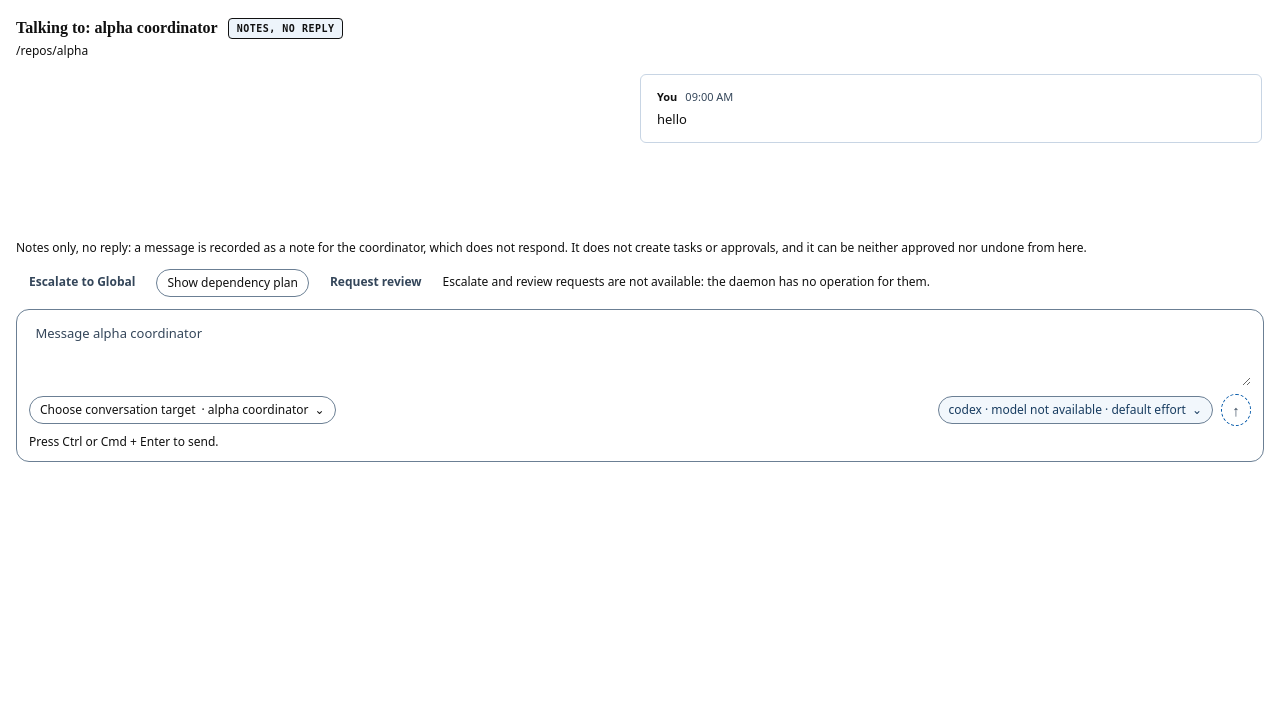
it: workspace view, live (daemon-derived) mode › polls a running turn, blocks a second send, and cancels through the daemon
The width and height of the screenshot is (1280, 720).
Expected: the heading "Talking to: alpha coordinator" is shown, [16,18,218,39]
Click the button "Choose conversation target · alpha coordinator ⌄".
click(182, 410)  # box [29,396,336,424]
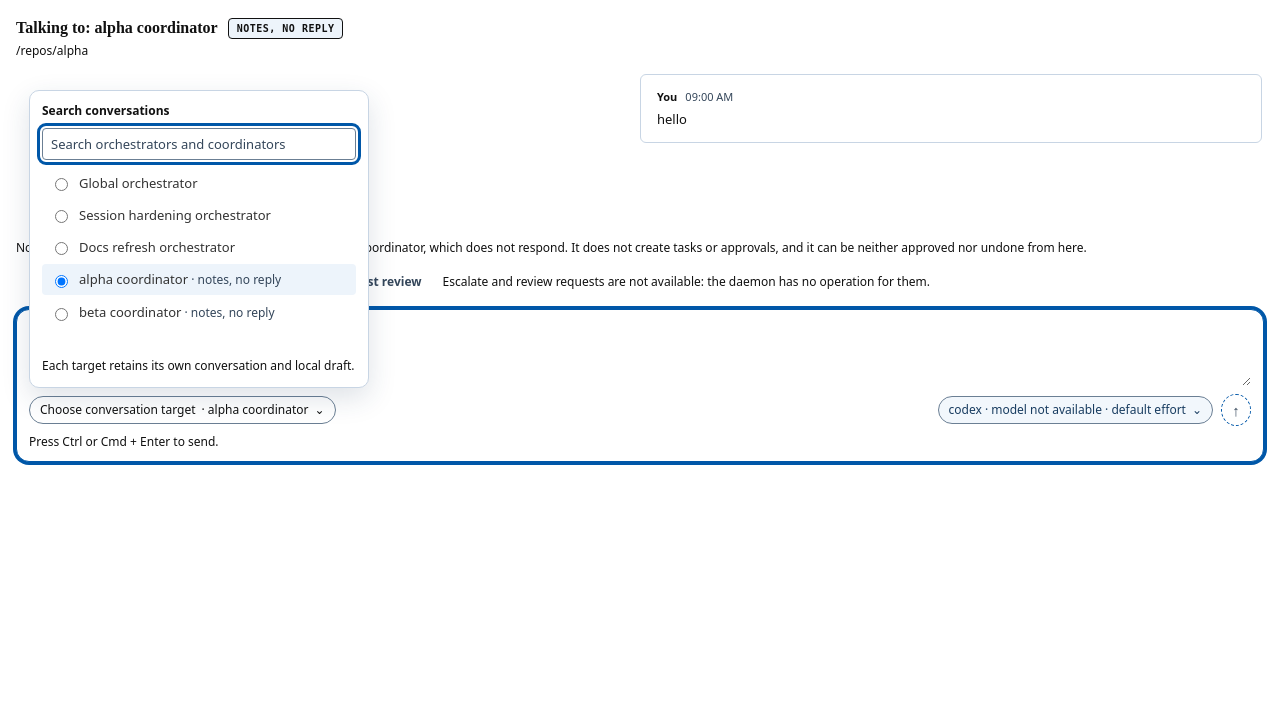
Click the radio button labelled "Global orchestrator".
click(62, 184)  # box [55,178,68,191]
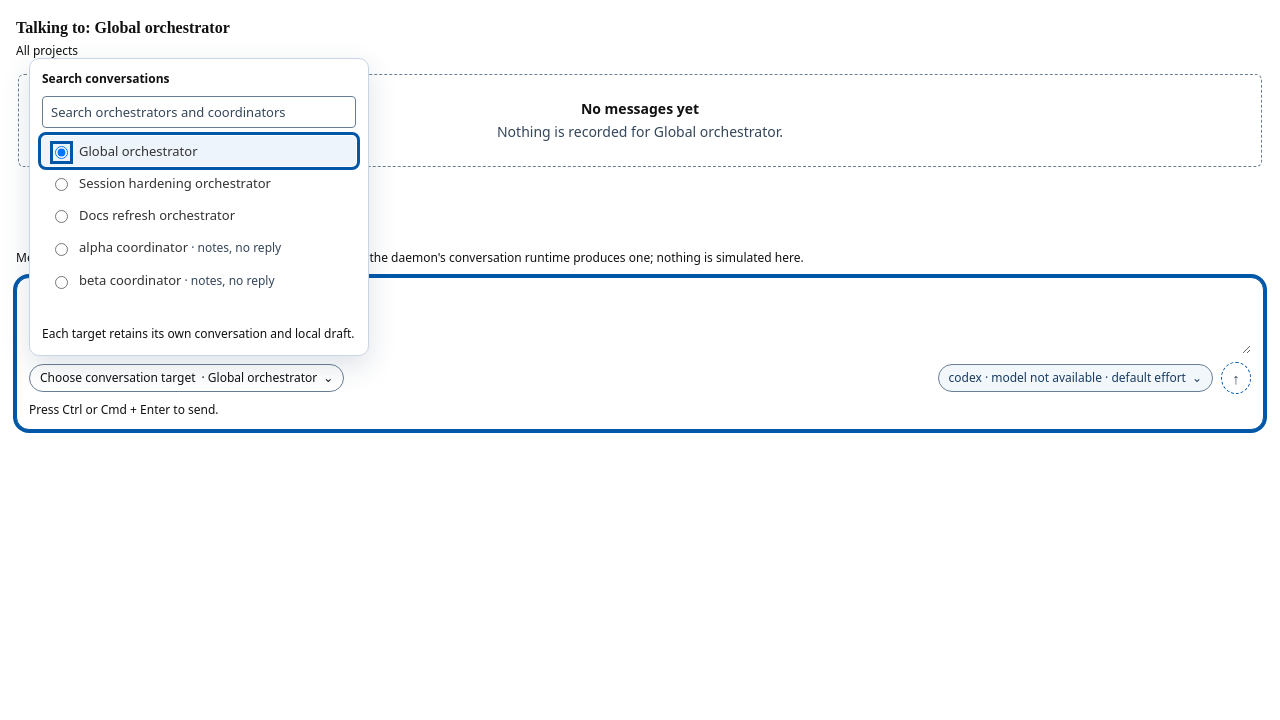
Type "slow" into the text box labelled "Message Global orchestrator".
click(640, 321); type("slow")  # box [29,288,1251,354]
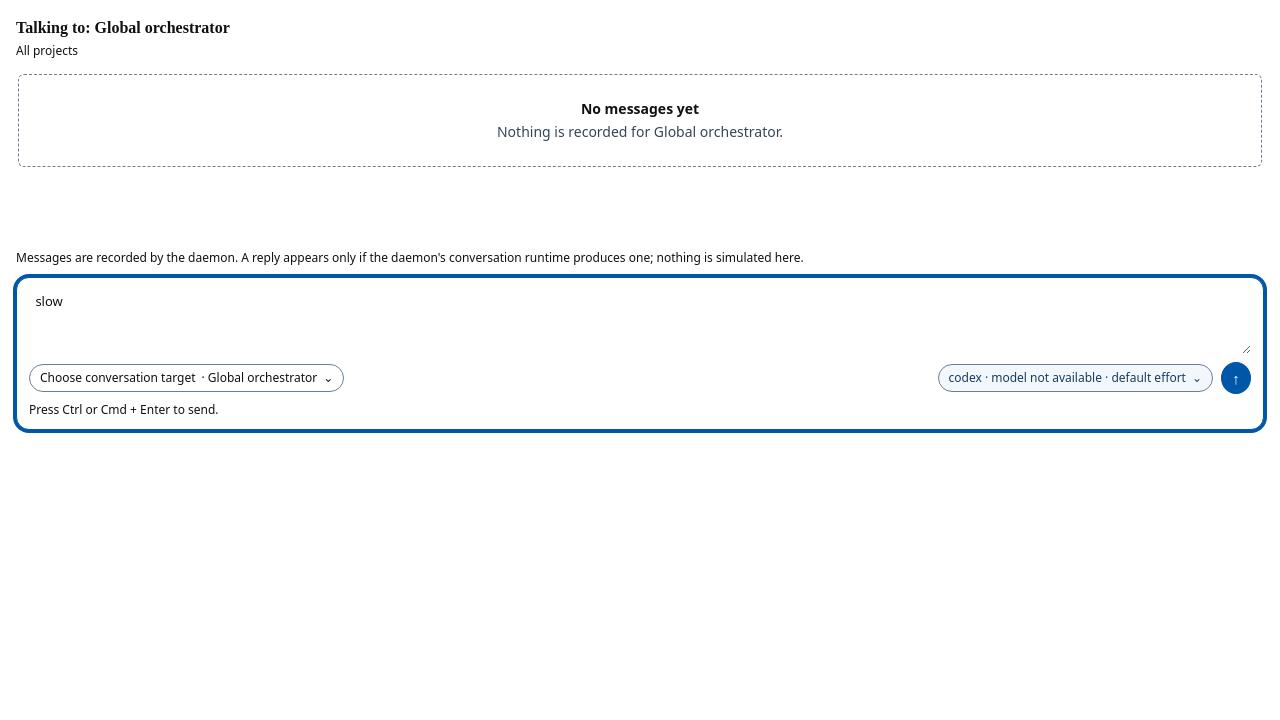
Click the button named "Send message to Global orchestrator".
click(1236, 378)  # box [1221,362,1251,394]
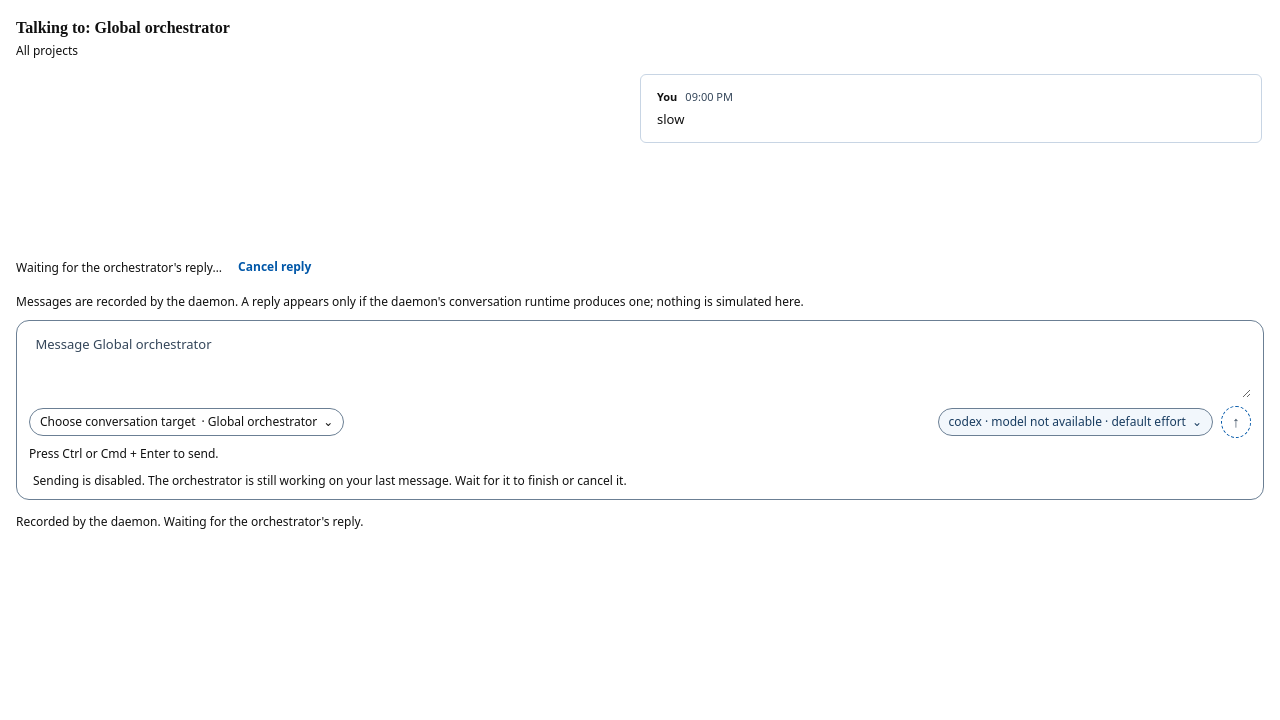
Result: the text "Waiting for the orchestrator's reply… Cancel reply" is shown at [16,252,324,284]
Type "more" into the text box labelled "Message Global orchestrator".
click(640, 365); type("more")  # box [29,331,1251,398]
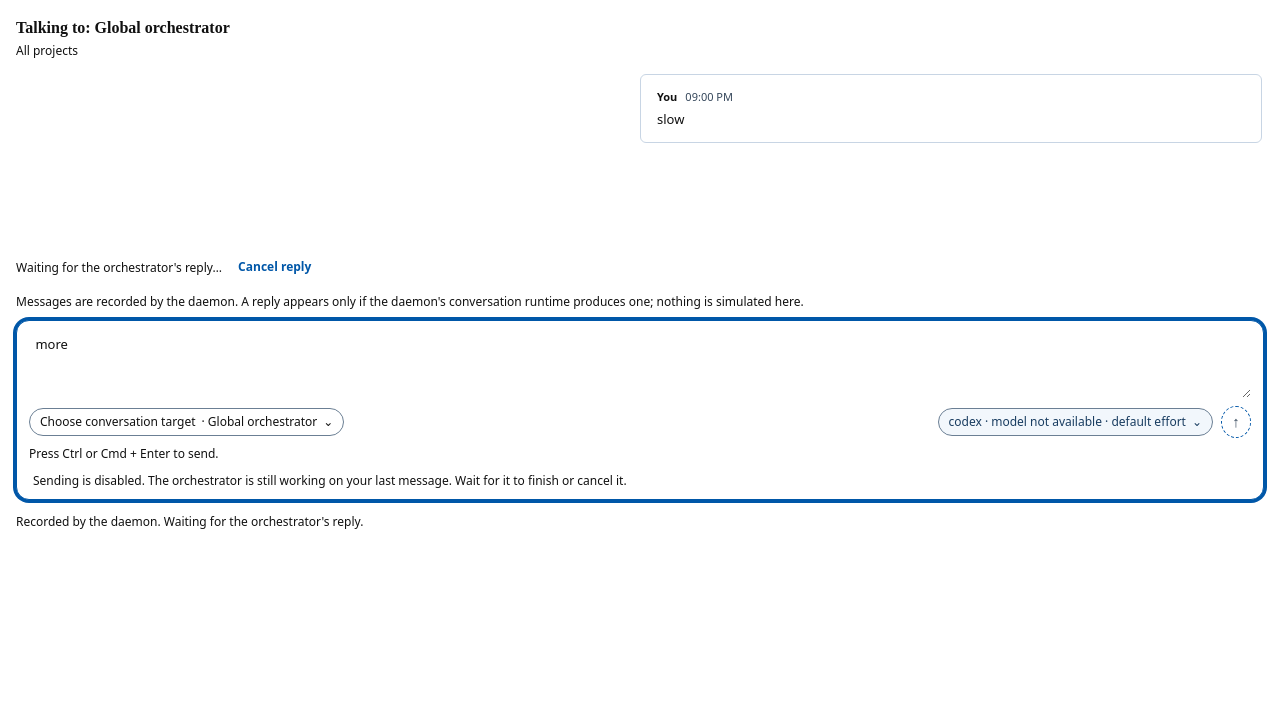
Result: the button named "Send message to Global orchestrator" is disabled at [1221,406,1251,438]
Result: the text "Sending is disabled." shows "still working" at [148,472,627,489]
Click the button "Cancel reply".
click(275, 268)  # box [225,252,324,284]
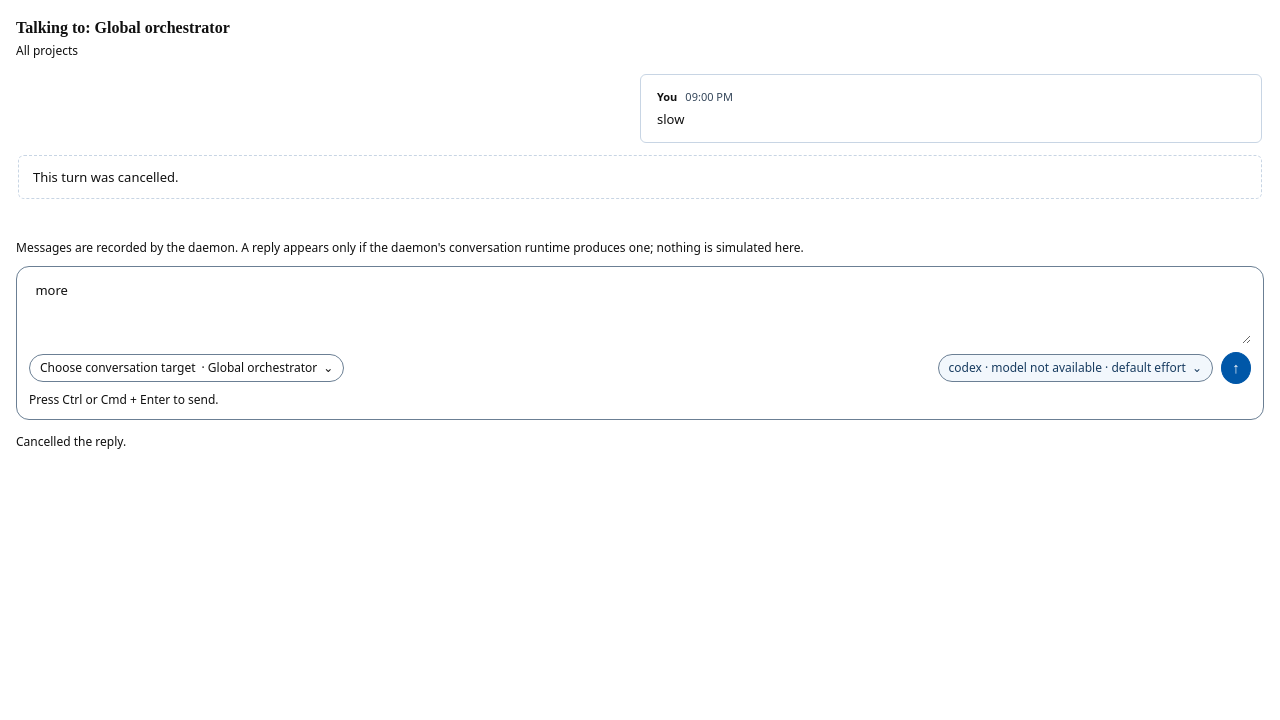
Result: the text "Cancelled the reply." is shown at [16,433,126,450]
Result: the text "Waiting for the orchestrator.s reply…" is gone
